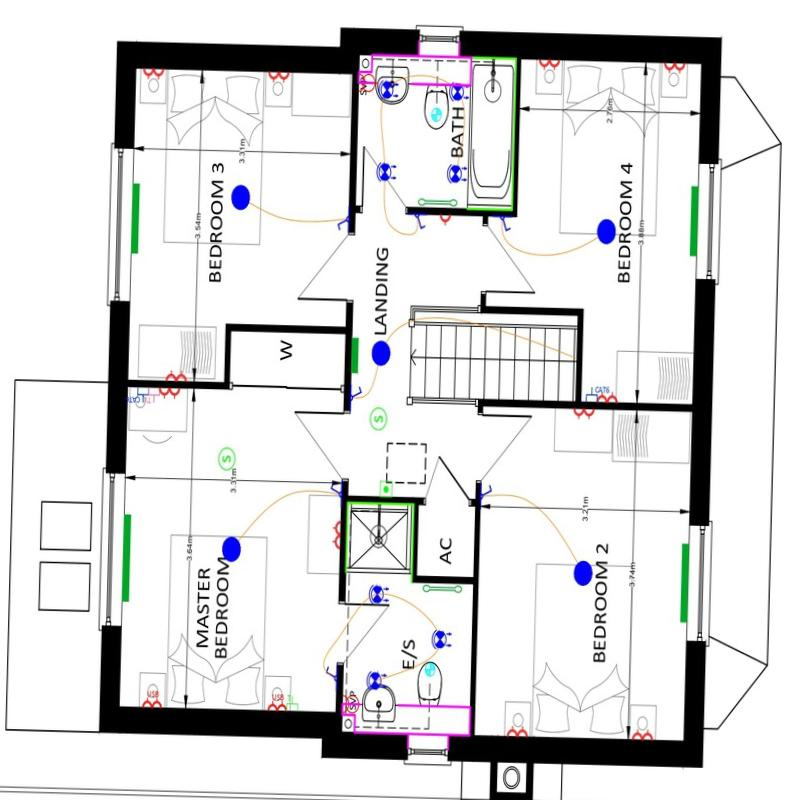Cat 6 Data Socket: (127, 386, 149, 404), (586, 387, 609, 401)
Ceiling Mounted Continuous Extract FanWith Boost Mode Activated By Light Switch: (431, 107, 442, 121), (424, 662, 435, 676)
Co-Ax TV Socket: (143, 387, 160, 403)
Double Socket: (331, 521, 342, 549), (269, 70, 290, 83), (539, 58, 560, 71), (165, 369, 187, 381), (573, 408, 595, 420), (664, 61, 686, 73), (159, 387, 180, 399), (143, 68, 165, 79), (506, 725, 527, 736), (632, 729, 653, 739), (598, 392, 618, 402)
Full Height Tiling: (466, 56, 514, 209), (346, 501, 412, 572)
Light Switch: (498, 216, 511, 231), (325, 665, 336, 680), (415, 214, 426, 229), (351, 387, 363, 400), (337, 217, 349, 230), (481, 484, 492, 498), (331, 483, 341, 497)
Low Energy Downlighter: (447, 163, 467, 185), (378, 79, 399, 99), (449, 81, 469, 102), (376, 161, 397, 181), (369, 584, 389, 604), (432, 629, 452, 649), (366, 671, 387, 690)
Low Energy Pendant Light: (573, 561, 593, 586), (222, 536, 241, 562), (597, 219, 616, 244), (372, 341, 391, 366), (232, 184, 250, 210)
Mains Wired Smoke Detector: (218, 447, 236, 470), (370, 407, 387, 430)
Programmable Room Thermostat: (380, 481, 393, 497)
Radiator: (678, 543, 689, 623), (121, 514, 131, 601), (687, 186, 699, 256), (132, 183, 139, 253), (351, 338, 359, 373)
Shaver Socket: (342, 694, 362, 713), (358, 74, 379, 92)
Single Socket: (440, 214, 451, 225)
Telephone Socket: (285, 695, 298, 711)
USB Double Socket: (142, 690, 163, 708), (268, 694, 286, 710)
